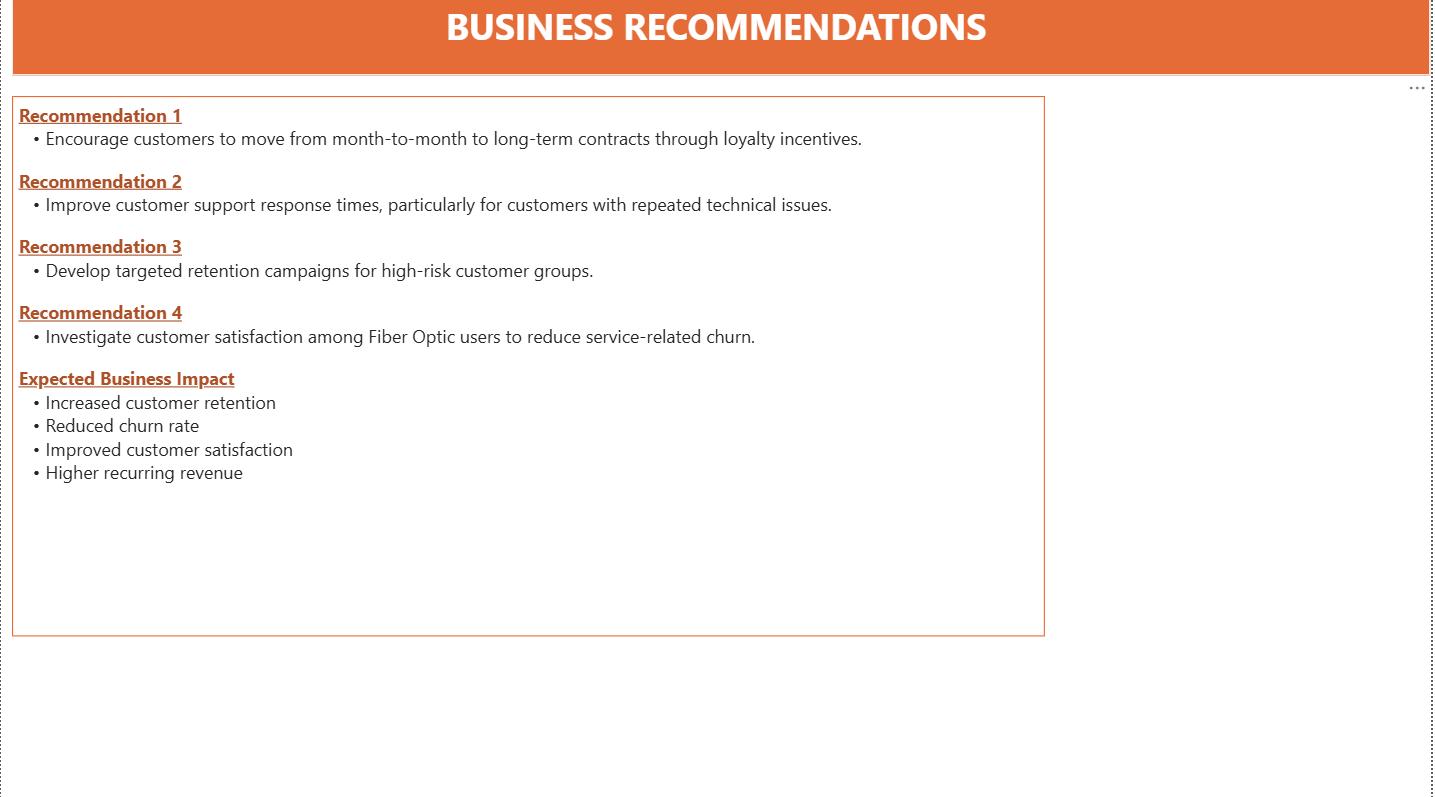

Layout of this report page (visuals, bound fields, positions):
{"tool":"powerbi","page":{"name":"Recommendations","canvas":[1280,720],"ordinal":2},"visuals":[{"type":"textbox","box":[9.9,0,1253.7,90.4],"z":0},{"type":"textbox","box":[9.9,0,1269.9,71.6],"z":1000},{"type":"textbox","box":[9.9,90.4,925.1,483.6],"z":2000}]}

Visuals, with their boxes in screenshot pixels (x1, y1, x2, y2), scaled from the page's 1280x720 canvas onto the 1435x797 screenshot:
textbox: x1=11 y1=0 x2=1417 y2=100
textbox: x1=11 y1=0 x2=1434 y2=79
textbox: x1=11 y1=100 x2=1048 y2=635
